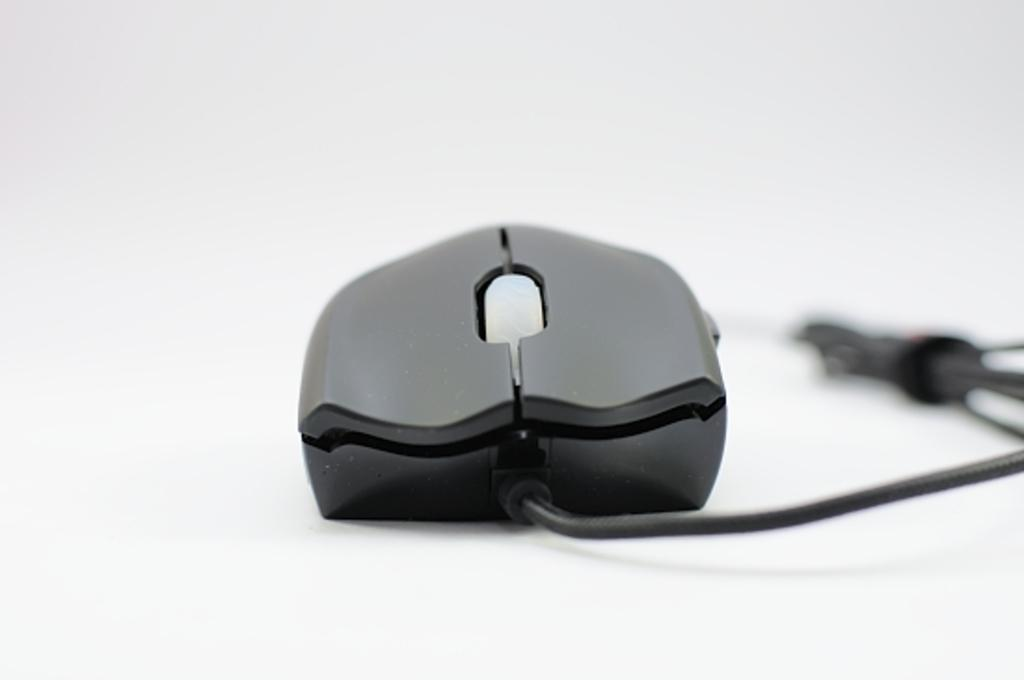Computer-mouse: (294, 218, 730, 522)
